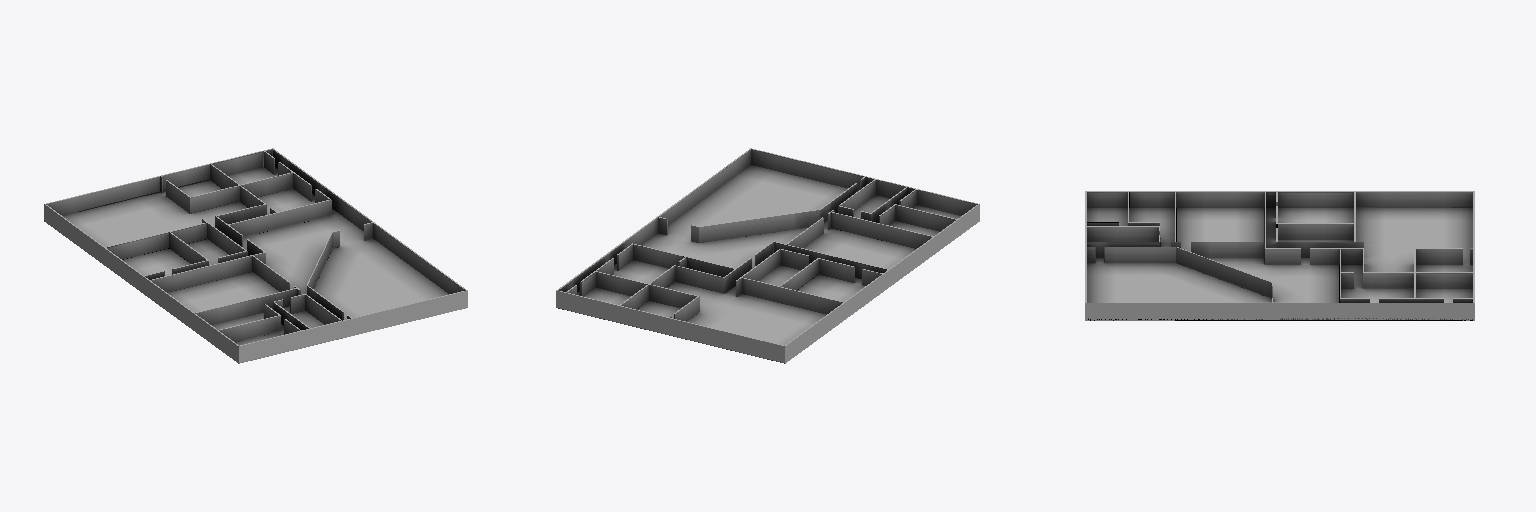
3 views of the same model, side by side, from view 1: azimuth 30°, elevation 25°; view 2: azimuth 150°, elevation 25°; view 3: azimuth 270°, elevation 25° (orthographic).
Visible parts, largest first — view 1: Plane_Plane_None; view 2: Plane_Plane_None; view 3: Plane_Plane_None.
Boxes of the visible parts, x1=… form: Plane_Plane_None: x1=44, y1=148, x2=467, y2=363; Plane_Plane_None: x1=556, y1=148, x2=979, y2=363; Plane_Plane_None: x1=1085, y1=191, x2=1474, y2=320.
Size of the model in its own units: 90 by 6.5 by 132.
Materials: 1 (1 with a texture image).